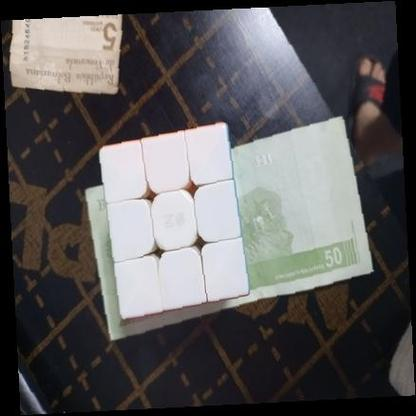fifty-back-vef: (85, 115, 374, 342)
